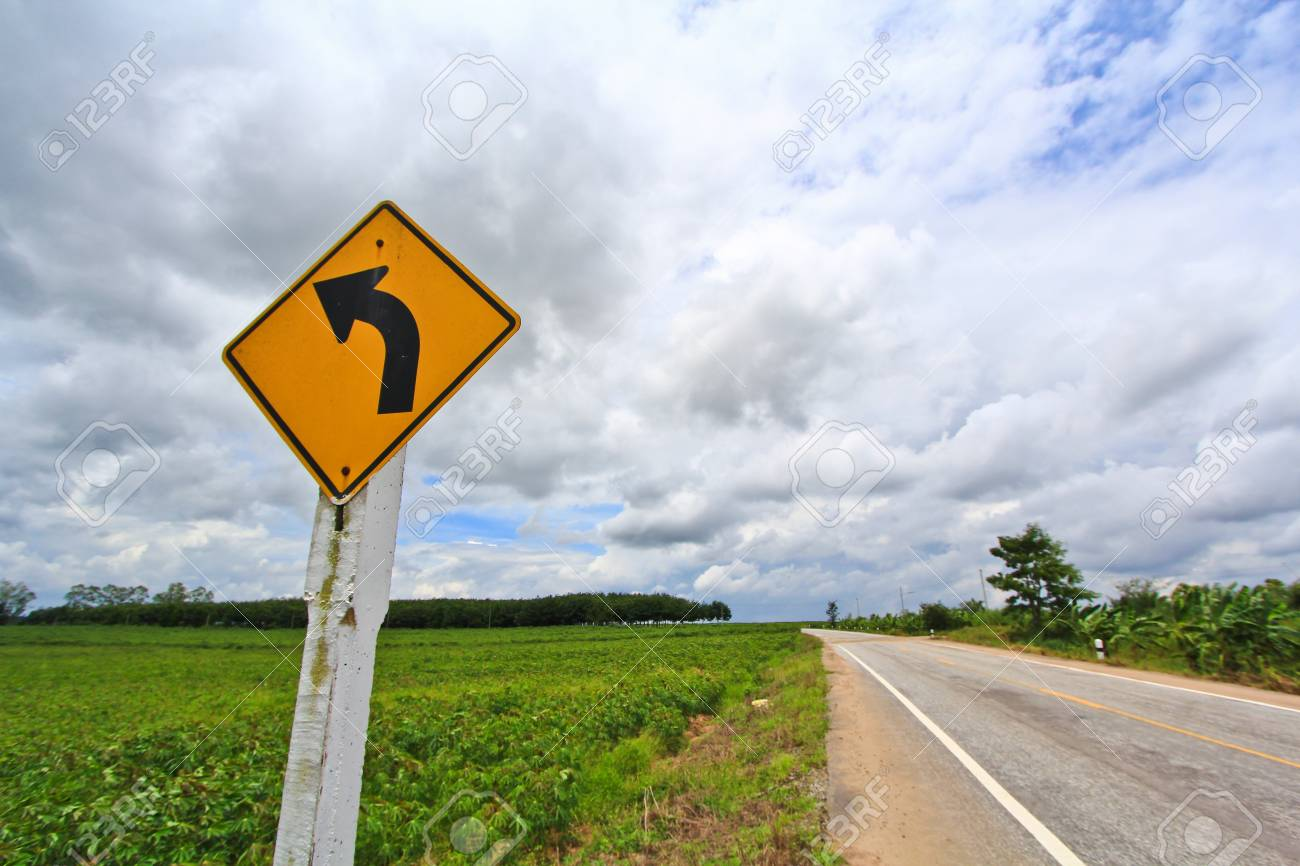left: (217, 194, 530, 506)
